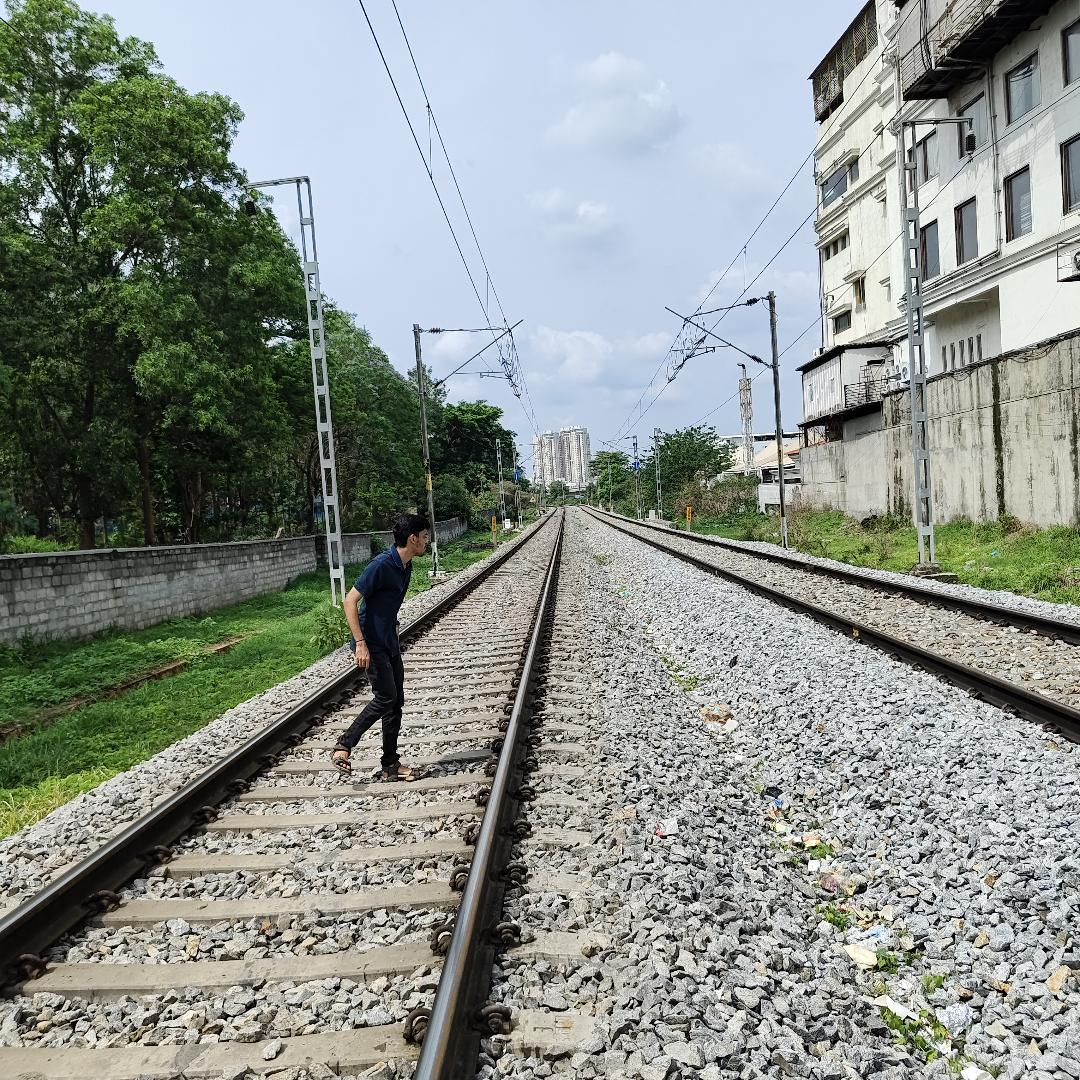standing: (317, 496, 447, 805)
track: (0, 485, 578, 1076)
